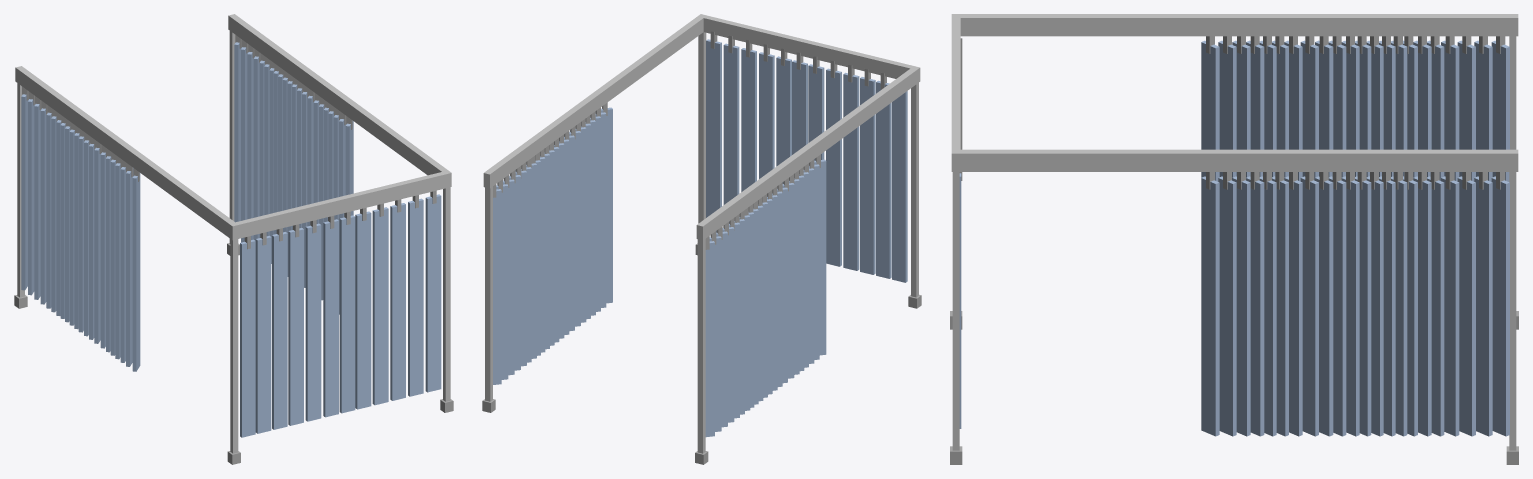
File: screen1_1.fbx
The picture shows the model from 3 angles, left to right: view 1: azimuth 30°, elevation 25°; view 2: azimuth 150°, elevation 25°; view 3: azimuth 270°, elevation 25°; orthographic projection. The views are drawn at different scales.
Parts seen in each view (by area): view 1: Null_3; view 2: Null_3; view 3: Null_3.
Boxes of the visible parts, x1=… form: Null_3: x1=14, y1=14, x2=453, y2=464; Null_3: x1=482, y1=14, x2=921, y2=464; Null_3: x1=950, y1=14, x2=1518, y2=464.
Bounding box in the file's own units: 79.3 × 80.04 × 133.
